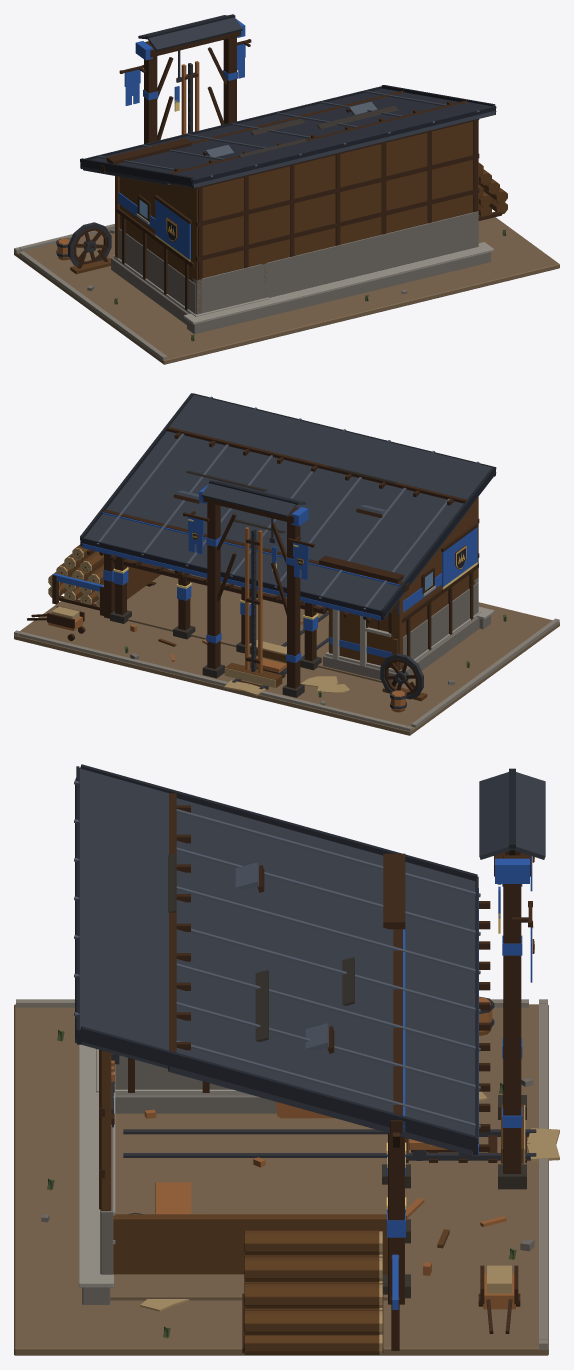
File: 伐木场_低模.glb
3 views of the same model, one above another, from view 1: azimuth 30°, elevation 25°; view 2: azimuth 150°, elevation 25°; view 3: azimuth 270°, elevation 25° (orthographic). The views are drawn at different scales.
Parts seen in each view (by area): view 1: LM-wood_mid, LM-earth, LM-stone_mid, LM-wood_dark, LM-roof, LM-roof_edge, LM-stone_light, LM-team, LM-roof_pale, LM-paving, LM-iron, LM-stone_dark (+1 smaller); view 2: LM-roof, LM-earth, LM-wood_dark, LM-wood_mid, LM-team, LM-roof_edge, LM-stone_mid, LM-paving, LM-sand, LM-roof_pale, LM-wood_warm, LM-iron (+2 smaller); view 3: LM-roof, LM-earth, LM-wood_mid, LM-wood_dark, LM-roof_edge, LM-roof_pale, LM-stone_mid, LM-stone_light, LM-iron, LM-wood_warm, LM-paving, LM-team (+2 smaller).
Boxes of the visible parts, x1,y1,x2,y2 form: LM-wood_mid: [70, 120, 507, 312]; LM-earth: [14, 215, 559, 364]; LM-stone_mid: [87, 211, 490, 334]; LM-wood_dark: [74, 31, 501, 310]; LM-roof: [82, 15, 495, 188]; LM-roof_edge: [80, 14, 496, 240]; LM-stone_light: [113, 213, 494, 324]; LM-team: [118, 18, 245, 259]; LM-roof_pale: [98, 91, 479, 177]; LM-paving: [14, 224, 167, 360]; LM-iron: [56, 50, 192, 266]; LM-stone_dark: [238, 106, 398, 157]; LM-roof: [84, 394, 493, 618]; LM-earth: [14, 570, 559, 735]; LM-wood_dark: [27, 427, 479, 695]; LM-wood_mid: [49, 497, 478, 701]; LM-team: [52, 484, 477, 662]; LM-roof_edge: [80, 393, 496, 619]; LM-stone_mid: [130, 577, 490, 705]; LM-paving: [14, 618, 559, 732]; LM-sand: [48, 547, 349, 695]; LM-roof_pale: [96, 396, 479, 609]; LM-wood_warm: [48, 527, 405, 712]; LM-iron: [232, 518, 423, 709]; LM-roof: [75, 767, 545, 1155]; LM-earth: [14, 1004, 548, 1355]; LM-wood_mid: [100, 1050, 523, 1354]; LM-wood_dark: [99, 793, 532, 1353]; LM-roof_edge: [76, 764, 534, 1154]; LM-roof_pale: [74, 780, 480, 1128]; LM-stone_mid: [41, 1055, 534, 1304]; LM-stone_light: [79, 1044, 250, 1287]; LM-iron: [111, 884, 536, 1214]; LM-wood_warm: [111, 997, 515, 1309]; LM-paving: [16, 999, 547, 1349]; LM-team: [387, 856, 532, 1309].
Size of the model in its own units: 16.81 by 7.72 by 10.92.
